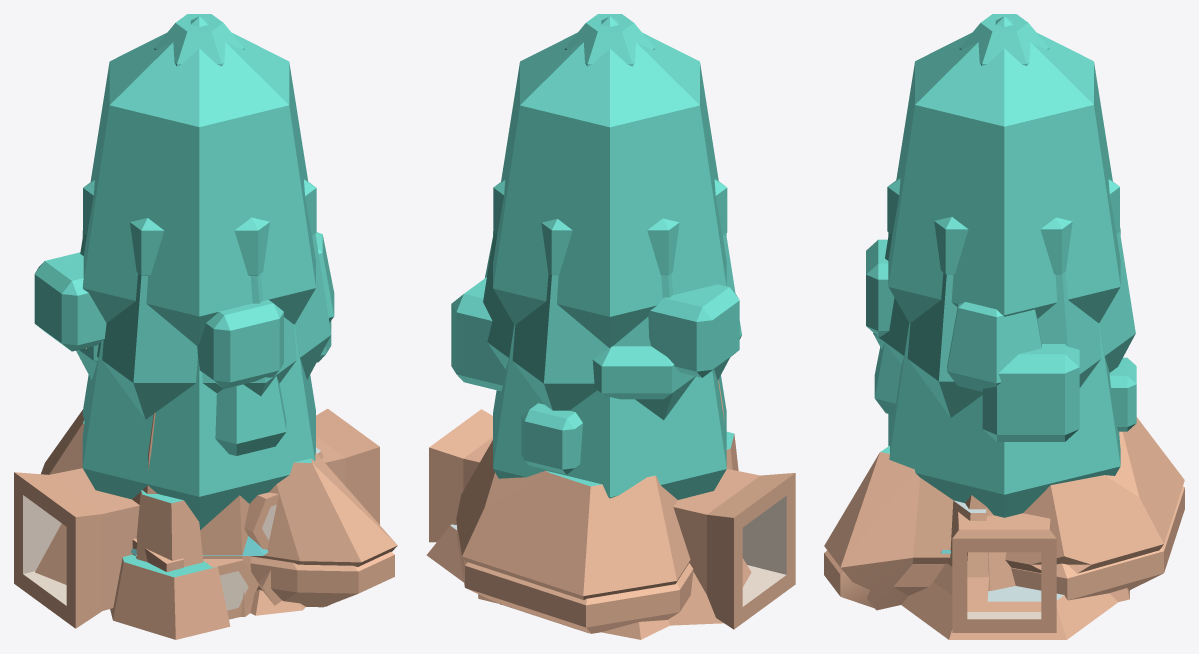
File: woodland-kit.glb
The picture shows the model from 3 angles, left to right: view 1: azimuth 30°, elevation 25°; view 2: azimuth 150°, elevation 25°; view 3: azimuth 270°, elevation 25°; orthographic projection.
Parts seen in each view (by area): view 1: tree_default, tree_fat, log_large, rock_tallB, tree_oak, tree_detailed, rock_largeB, tree_thin, rock_largeA, tree_plateau, rock_tallA, log_stack (+1 smaller); view 2: tree_default, rock_largeB, log_large, tree_fat, tree_detailed, tree_oak, tree_plateau, rock_largeA, rock_tallA, tree_tall, rock_tallB; view 3: tree_default, rock_largeB, tree_fat, tree_detailed, tree_oak, log_large, tree_thin, rock_tallA, rock_largeA, tree_plateau, tree_tall, rock_tallB (+1 smaller).
Part boxes in pixels (x1,y1,x2,y2): tree_default: (82, 16, 315, 345); tree_fat: (82, 324, 315, 529); log_large: (14, 408, 379, 628); rock_tallB: (110, 490, 305, 639); tree_oak: (76, 233, 331, 419); tree_detailed: (34, 252, 331, 388); rock_largeB: (41, 410, 397, 606); tree_thin: (215, 232, 334, 455); rock_largeA: (250, 552, 394, 607); tree_plateau: (79, 179, 316, 362); rock_tallA: (35, 412, 323, 616); log_stack: (203, 492, 281, 619); tree_default: (493, 16, 726, 347); rock_largeB: (456, 440, 690, 633); log_large: (429, 409, 795, 629); tree_fat: (493, 324, 726, 499); tree_detailed: (451, 277, 739, 474); tree_oak: (483, 233, 741, 419); tree_plateau: (493, 179, 727, 399); rock_largeA: (457, 526, 693, 633); rock_tallA: (426, 380, 751, 625); tree_tall: (564, 14, 654, 66); rock_tallB: (478, 431, 738, 639); tree_default: (888, 16, 1120, 322); rock_largeB: (824, 417, 1184, 610); tree_fat: (888, 323, 1120, 517); tree_detailed: (866, 239, 1136, 441); tree_oak: (873, 232, 1135, 417); log_large: (952, 512, 1056, 632); tree_thin: (874, 302, 1041, 414); rock_tallA: (901, 501, 1117, 639); rock_largeA: (824, 486, 1184, 608); tree_plateau: (887, 178, 1119, 274); tree_tall: (959, 14, 1049, 65); rock_tallB: (965, 495, 1129, 601).
Size of the model in its own units: 1 by 1.71 by 1.02.
